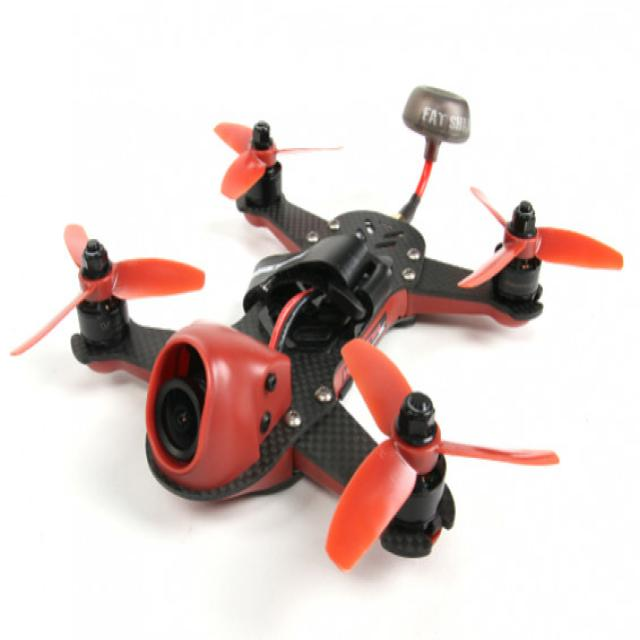drone: (0, 109, 634, 572)
